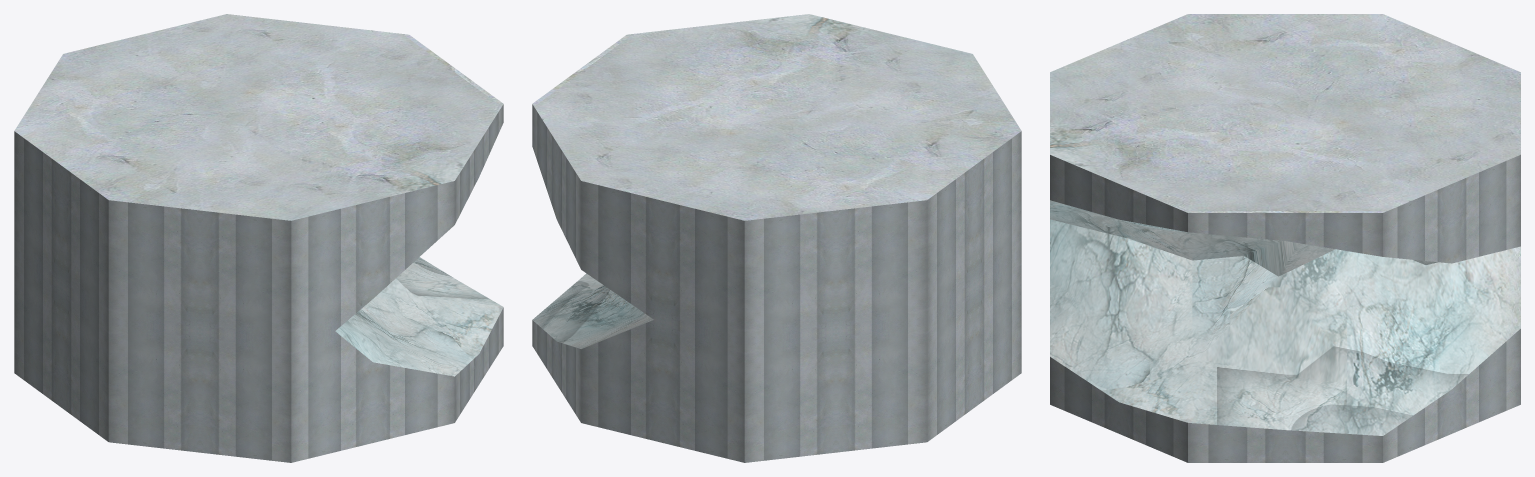
The model's file is GaintColumn2.fbx.
3 renders of one model, left to right at view 1: azimuth 30°, elevation 25°; view 2: azimuth 150°, elevation 25°; view 3: azimuth 270°, elevation 25°, orthographic. The views are drawn at different scales.
Parts seen in each view (by area): view 1: GiantColumn2; view 2: GiantColumn2; view 3: GiantColumn2.
Part boxes in pixels (<box>): GiantColumn2: <box>14,14,503,462</box>; GiantColumn2: <box>532,14,1021,462</box>; GiantColumn2: <box>1050,14,1520,462</box>.
Bounding box in the file's own units: 6.83 × 4 × 6.83.
